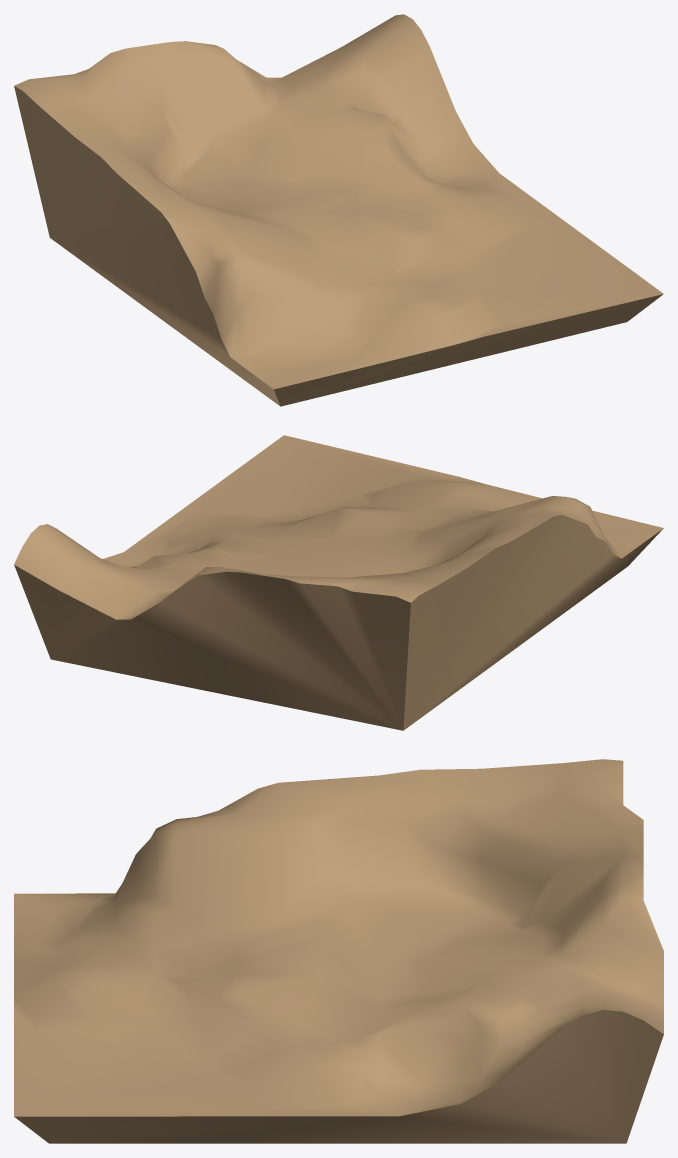
The picture shows the model from 3 angles, top to bottom: view 1: azimuth 30°, elevation 25°; view 2: azimuth 150°, elevation 25°; view 3: azimuth 270°, elevation 25°; orthographic projection. The views are drawn at different scales.
Parts seen in each view (by area): view 1: 000-0-0; view 2: 000-0-0; view 3: 000-0-0.
Part boxes in pixels (x1=…): 000-0-0: x1=14, y1=14, x2=663, y2=406; 000-0-0: x1=14, y1=435, x2=663, y2=730; 000-0-0: x1=14, y1=759, x2=663, y2=1143.
Bounding box in the file's own units: 73.03 × 27 × 89.89.
